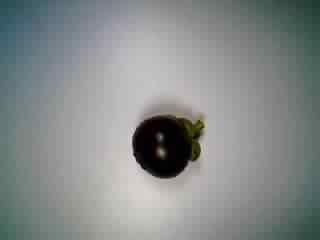mangosteen: (127, 101, 206, 182)
